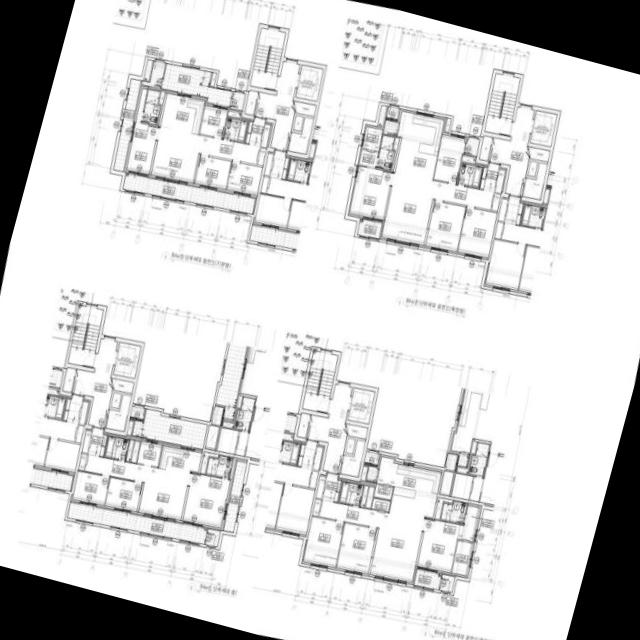background: (0, 0, 640, 640)
space_balconi: (67, 502, 206, 543), (122, 173, 254, 213), (161, 63, 232, 106), (140, 408, 206, 448), (113, 78, 140, 171), (223, 460, 246, 532), (413, 568, 441, 589), (357, 219, 381, 238)
space_bedroom: (126, 88, 157, 173), (182, 472, 229, 527), (349, 165, 392, 219), (416, 518, 459, 571), (303, 516, 343, 567), (335, 523, 375, 573), (457, 206, 496, 257), (425, 200, 464, 250), (433, 134, 464, 183), (104, 477, 141, 511), (226, 161, 262, 195), (72, 470, 108, 504), (194, 155, 230, 188), (199, 105, 227, 137)
space_dressroom: (451, 505, 479, 574), (359, 126, 382, 167)
space_elevator: (113, 341, 140, 377), (295, 64, 322, 100), (347, 387, 374, 423), (529, 110, 556, 145)
space_elevator_hall: (488, 106, 533, 195), (254, 61, 299, 150), (71, 338, 116, 427), (306, 384, 351, 472)
space_front: (479, 162, 505, 192), (244, 117, 270, 146), (87, 427, 107, 457), (322, 472, 341, 501)
space_kitchen: (394, 110, 443, 179), (376, 456, 440, 493), (159, 93, 204, 134), (158, 445, 201, 472)
space_living_room: (318, 486, 436, 582), (381, 172, 500, 244), (84, 454, 189, 519), (150, 127, 266, 182)
space_other: (522, 162, 547, 199), (105, 394, 130, 431), (340, 439, 364, 476), (288, 117, 312, 153), (136, 441, 161, 466), (200, 451, 218, 473), (434, 497, 452, 518), (293, 100, 315, 115), (111, 377, 133, 392), (345, 423, 367, 438), (528, 146, 549, 161), (62, 367, 75, 391), (244, 90, 257, 114), (373, 483, 392, 499), (297, 412, 309, 437), (479, 135, 491, 160), (230, 91, 245, 110), (205, 528, 220, 546), (464, 137, 479, 155), (382, 119, 398, 135), (439, 574, 454, 591), (391, 136, 398, 170), (371, 498, 389, 511), (157, 91, 164, 124), (315, 475, 325, 498), (365, 465, 377, 482), (130, 440, 139, 462), (81, 430, 90, 452), (131, 420, 143, 436), (143, 59, 152, 80), (125, 439, 133, 461), (365, 486, 373, 507), (110, 392, 120, 408), (527, 160, 537, 176), (377, 105, 385, 125), (345, 438, 355, 453), (360, 485, 367, 506), (293, 115, 302, 130), (78, 453, 86, 469), (312, 499, 320, 515), (461, 155, 474, 163), (360, 466, 367, 480), (227, 110, 240, 117), (126, 420, 132, 434), (444, 117, 450, 131), (210, 72, 216, 85)
space_outdoor_room: (141, 60, 164, 87), (129, 405, 144, 418), (364, 451, 379, 464), (386, 106, 399, 118)
space_staircase: (302, 350, 337, 413), (67, 304, 102, 367), (250, 27, 285, 90), (484, 73, 519, 135)
space_toilet: (141, 89, 159, 124), (376, 135, 394, 169), (338, 481, 363, 505), (440, 500, 466, 523), (104, 435, 128, 459), (223, 117, 247, 141), (457, 163, 482, 186), (206, 455, 232, 477)
